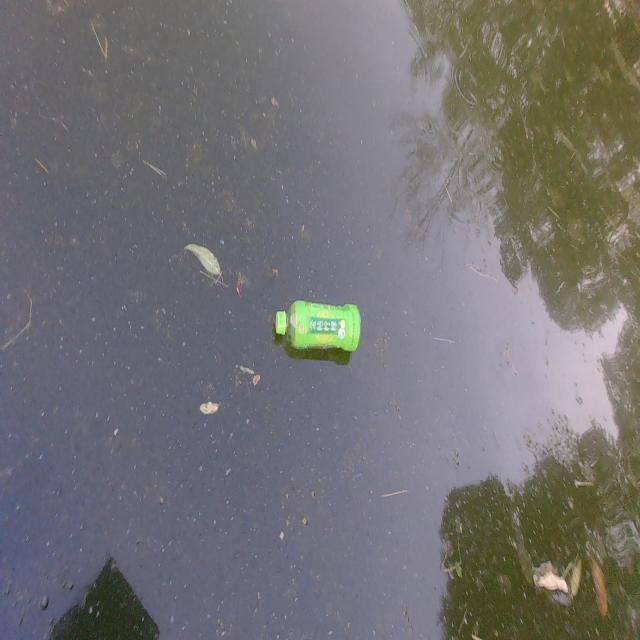garbage: (274, 299, 360, 353)
